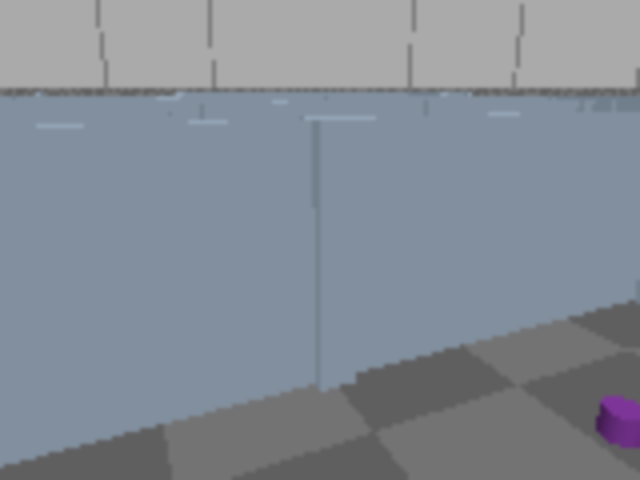puck: (599, 397, 638, 446)
